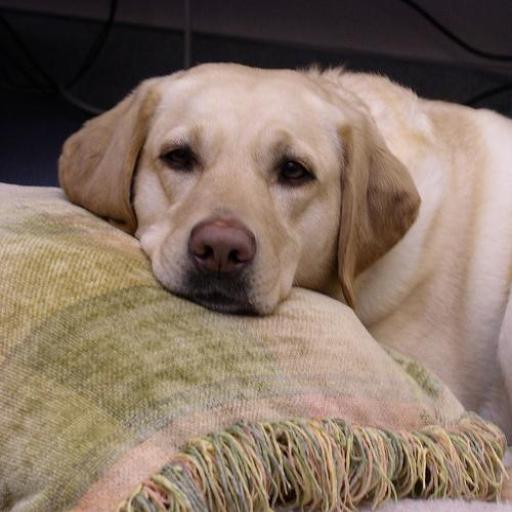dog_face: (66, 68, 423, 330)
